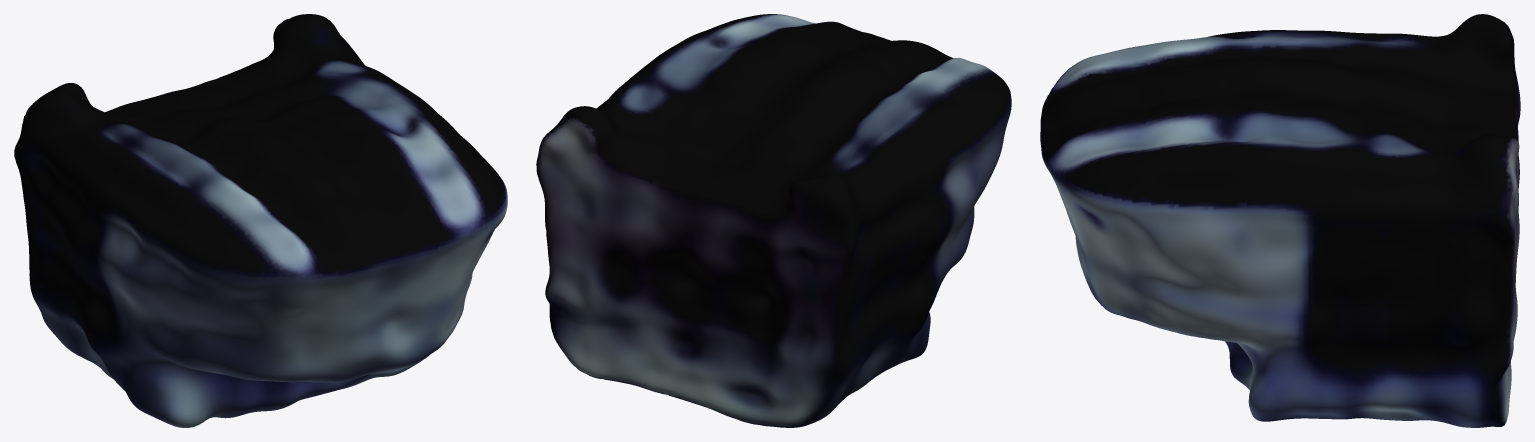
File: backpack.glb
3 views of the same model, side by side, from view 1: azimuth 30°, elevation 25°; view 2: azimuth 150°, elevation 25°; view 3: azimuth 270°, elevation 25° (orthographic). The views are drawn at different scales.
Bounding box in the file's own units: 0.8971 × 0.6969 × 0.9996.
